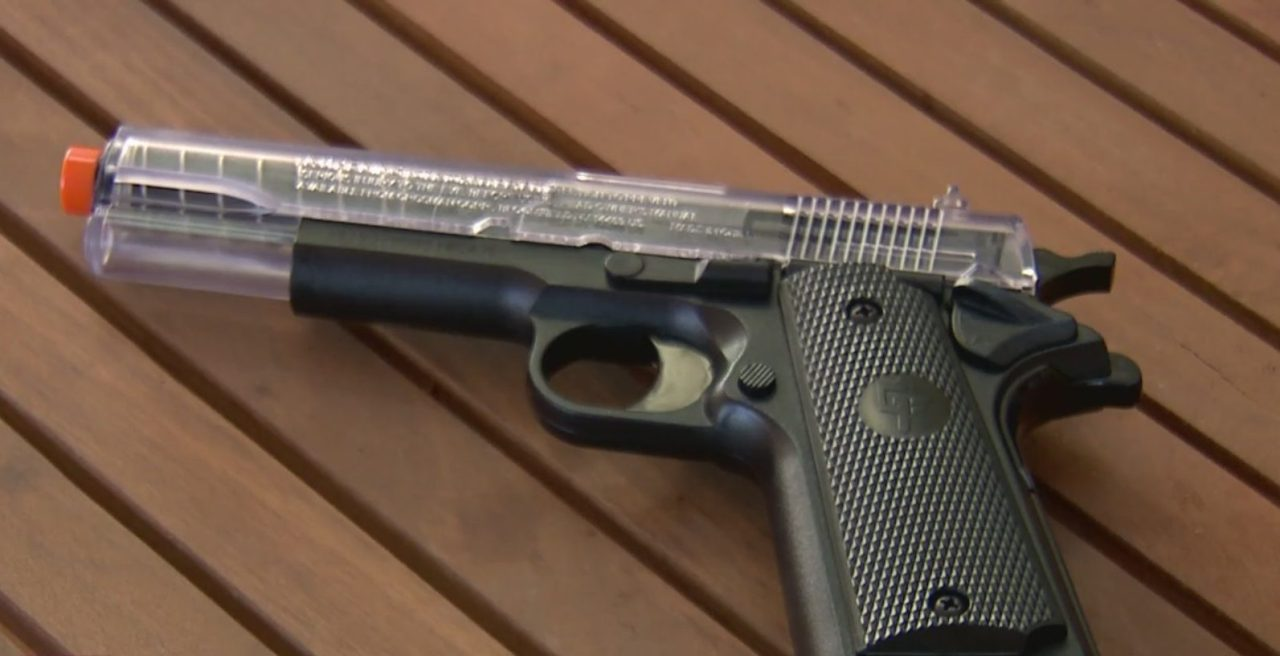Arma Falsa: (59, 115, 1148, 656)
